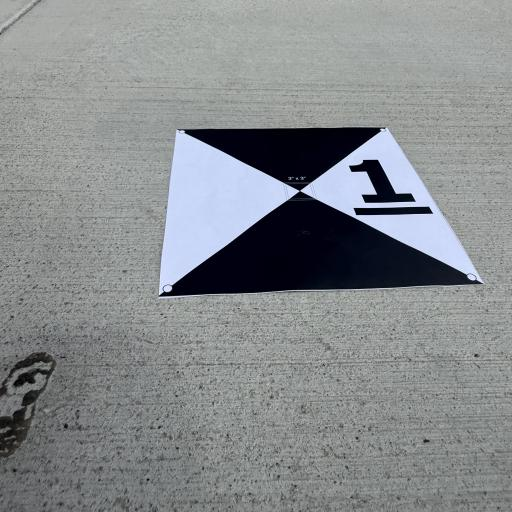target1: (162, 120, 489, 304)
